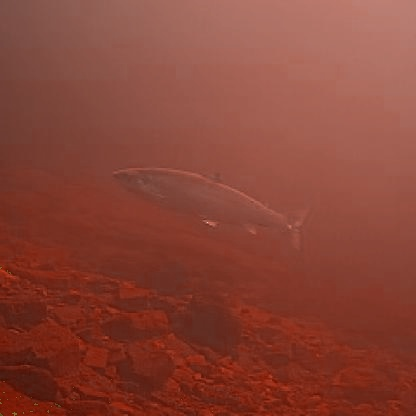salmon: (106, 158, 312, 255)
